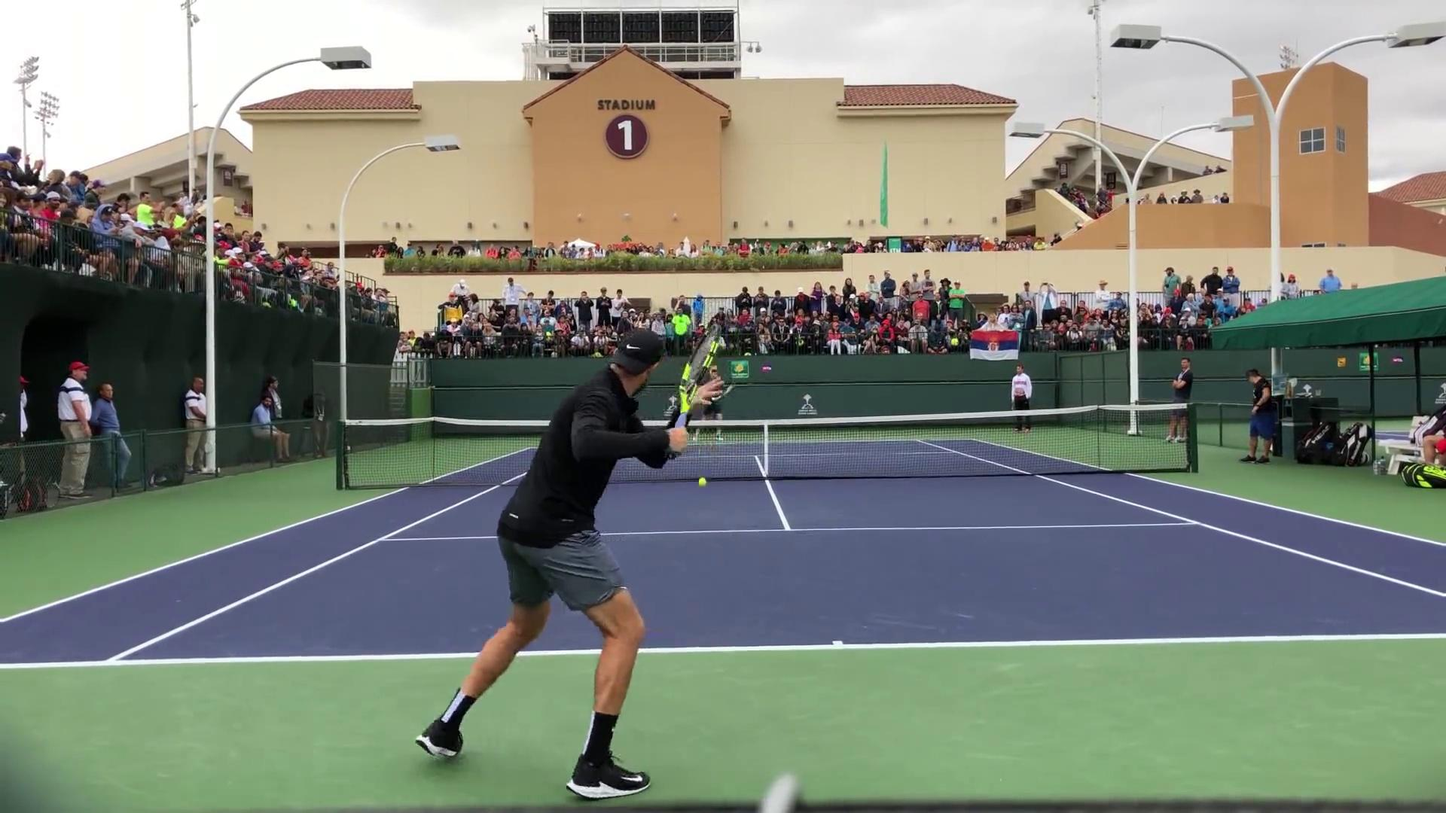ball: (695, 476, 709, 490)
